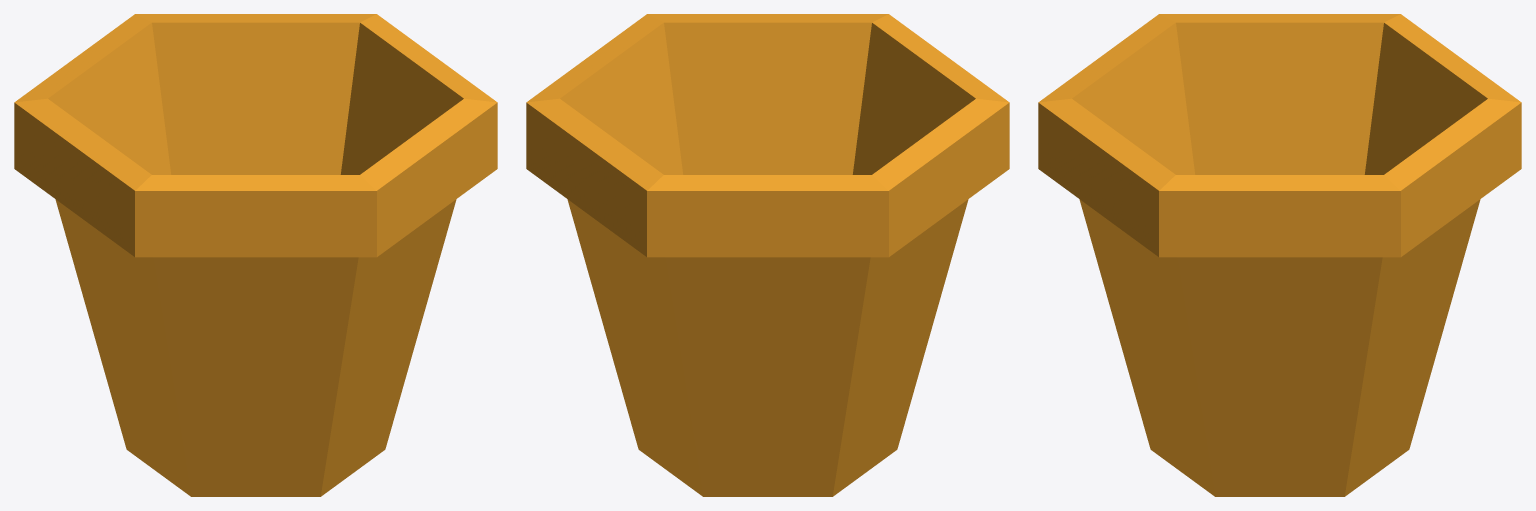
The model's file is SM_Pot_Clay_Small_A.fbx.
3 views of the same model, side by side, from view 1: azimuth 30°, elevation 25°; view 2: azimuth 150°, elevation 25°; view 3: azimuth 270°, elevation 25° (orthographic).
Visible parts, largest first — view 1: pot-clay-small-a; view 2: pot-clay-small-a; view 3: pot-clay-small-a.
Boxes of the visible parts, x1=… form: pot-clay-small-a: x1=14, y1=14, x2=497, y2=496; pot-clay-small-a: x1=526, y1=14, x2=1009, y2=496; pot-clay-small-a: x1=1038, y1=14, x2=1521, y2=496.
Size of the model in its own units: 0.1165 by 0.1087 by 0.1345.
